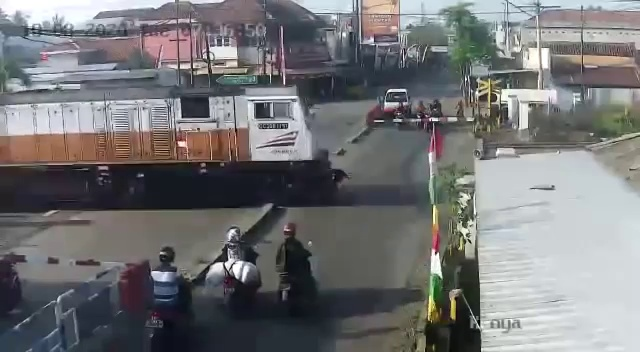car: (383, 87, 412, 120)
motorbike: (143, 243, 197, 351), (210, 230, 260, 306), (280, 224, 318, 310), (413, 99, 427, 132), (394, 104, 406, 130), (454, 101, 465, 122), (430, 99, 441, 120)
